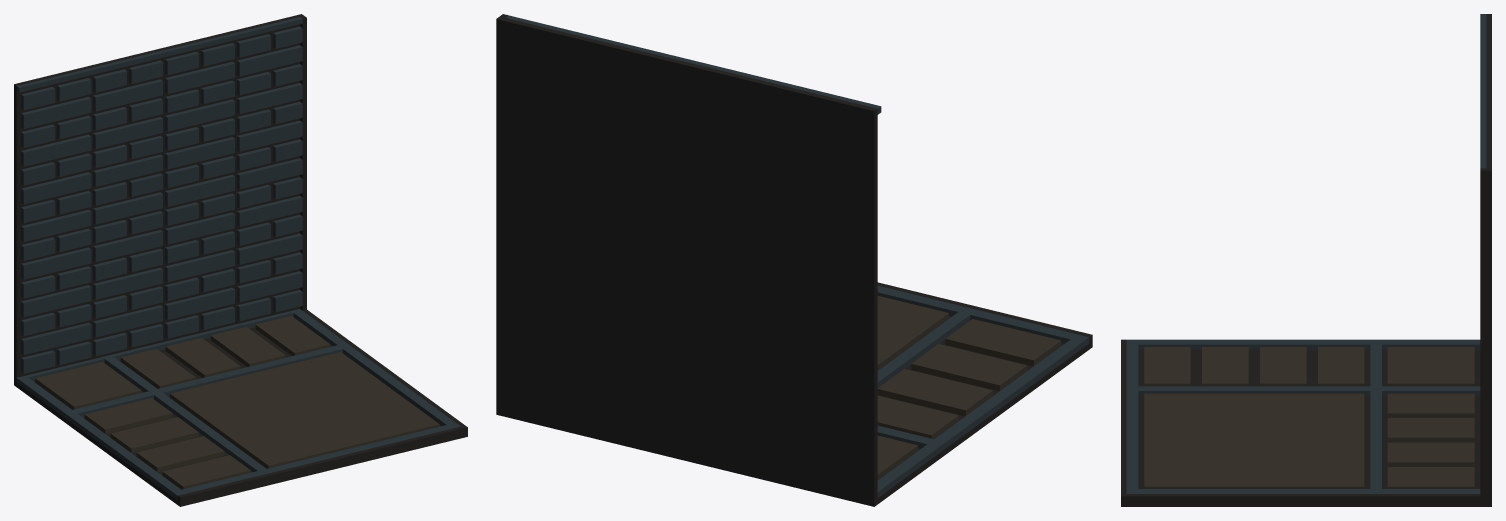
File: corridor_bend_4.obj
3 renders of one model, left to right at view 1: azimuth 30°, elevation 25°; view 2: azimuth 150°, elevation 25°; view 3: azimuth 270°, elevation 25°, orthographic. The views are drawn at different scales.
Bounding box in the file's own units: 6.4 × 6.4 × 6.4.
1 material, 1 textured.
